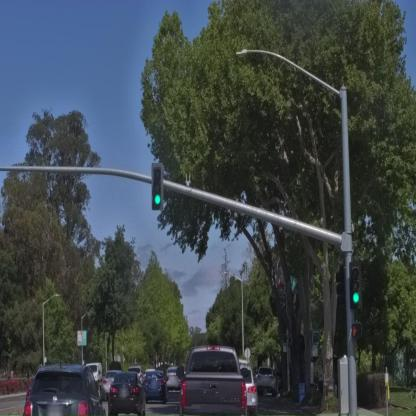car: (19, 366, 99, 416), (108, 372, 148, 416), (142, 370, 168, 405), (255, 367, 278, 396), (101, 371, 122, 397), (166, 368, 182, 392)
truck: (179, 344, 256, 416)
